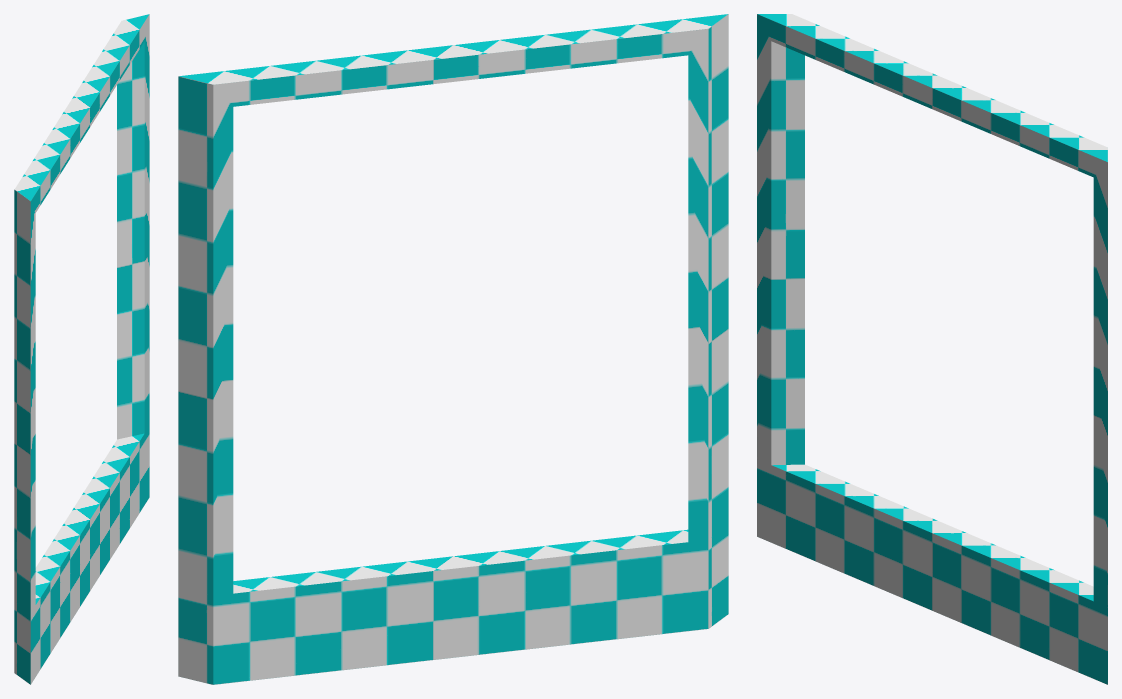
The model's file is ObservatoryWindow_01.fbx.
3 renders of one model, left to right at view 1: azimuth 30°, elevation 25°; view 2: azimuth 150°, elevation 25°; view 3: azimuth 270°, elevation 25°, orthographic. The views are drawn at different scales.
Visible parts, largest first — view 1: ObservatoryWindow_01; view 2: ObservatoryWindow_01; view 3: ObservatoryWindow_01.
Boxes of the visible parts, x1,y1,x2,y2 form: ObservatoryWindow_01: [14, 14, 149, 684]; ObservatoryWindow_01: [178, 14, 728, 684]; ObservatoryWindow_01: [757, 14, 1107, 684].
Size of the model in its own units: 118 by 118 by 194.
Materials: 1 (1 with a texture image).
